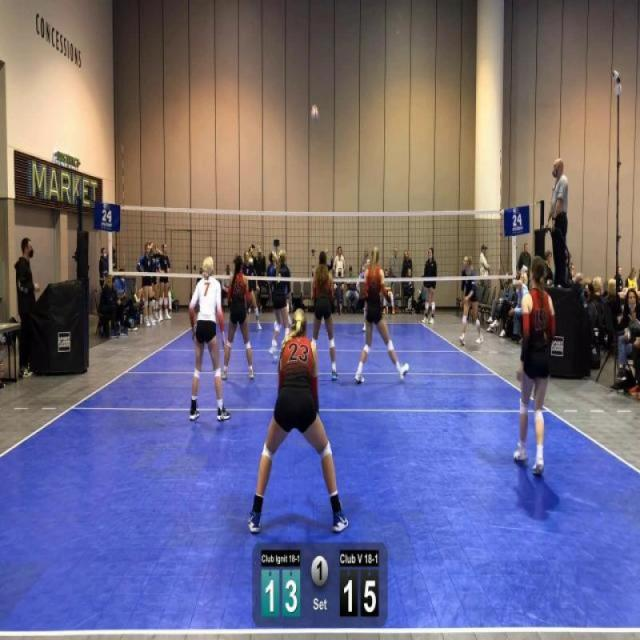volleyball: (312, 104, 318, 120)
